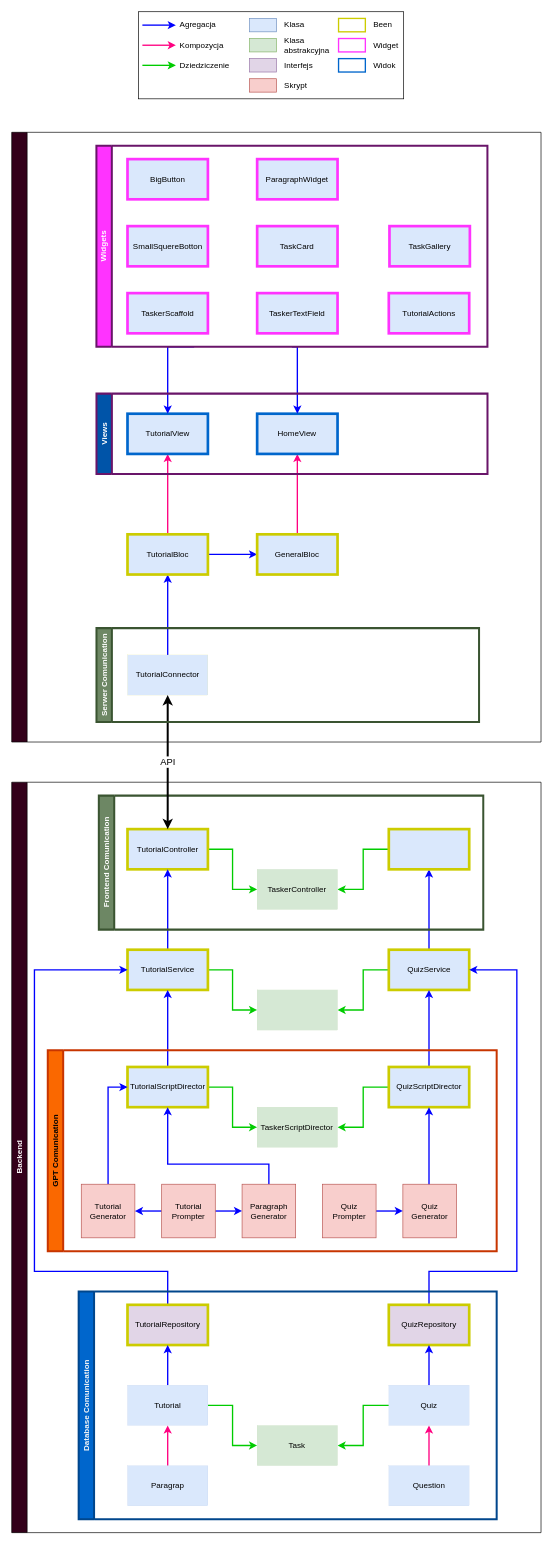
The diagram is 553 pixels wide and 1544 high, and some of its shapes have lost their labels. Here are the shapes that lost their labels. From the top down, the centre of each, then its label:
At [276,437]: "Frontend".
At [428,848]: "QuizController".
At [297,1010]: "TaskerService".
